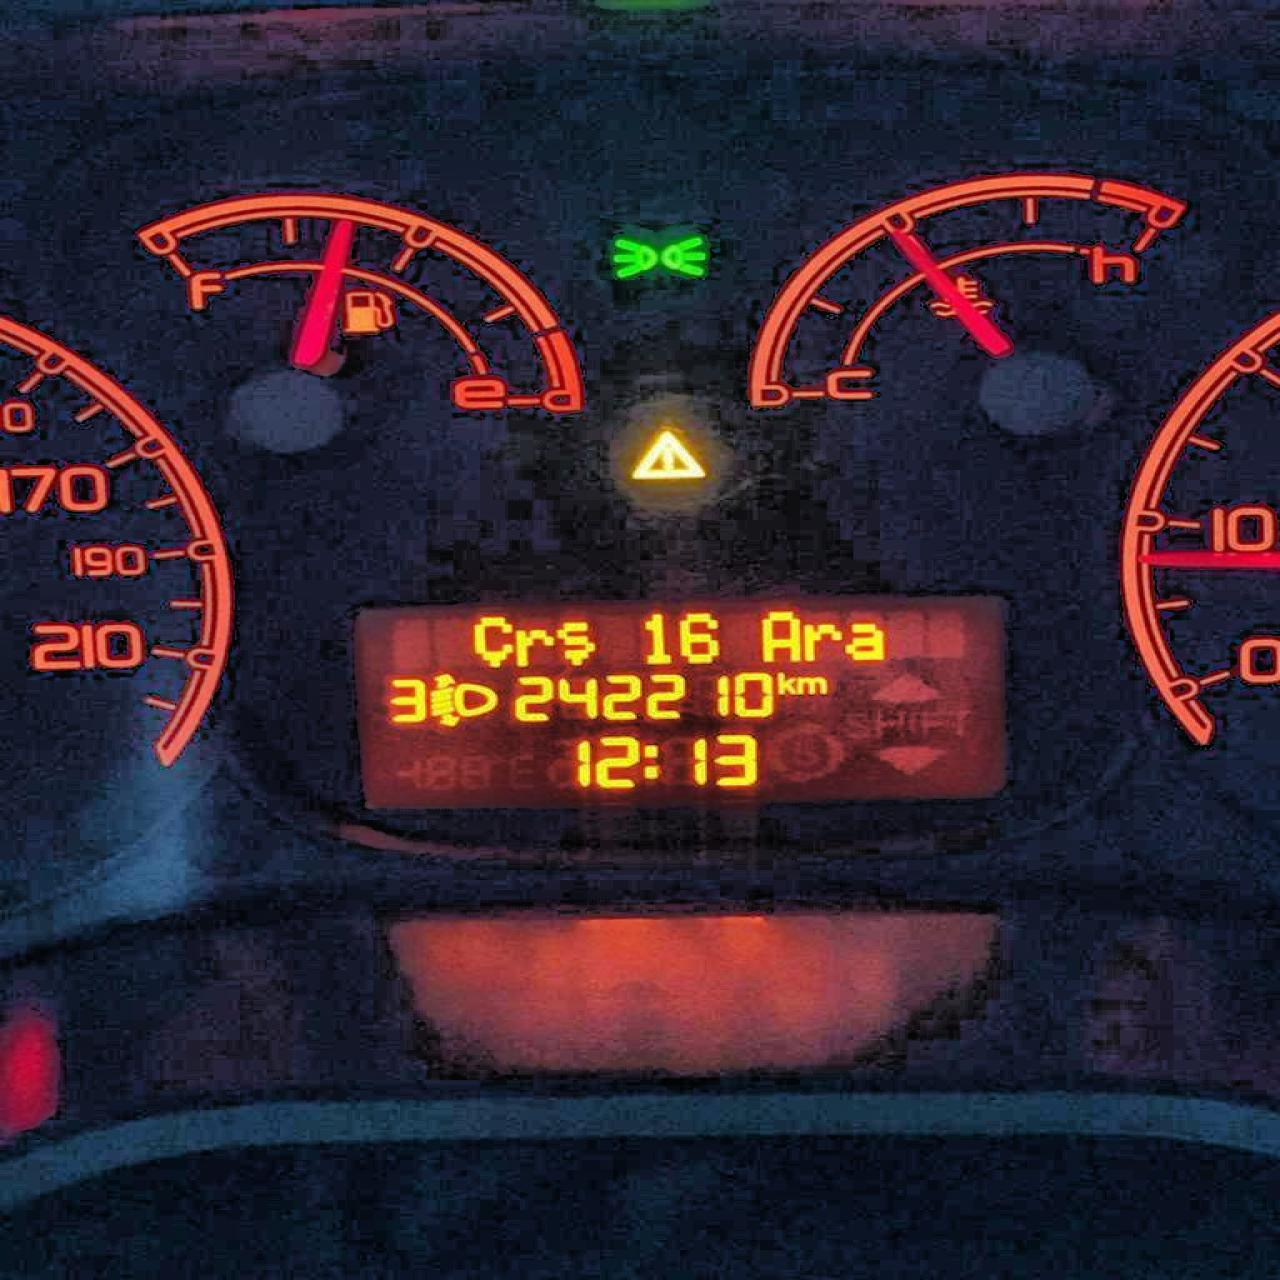0: (731, 670, 771, 717)
1: (641, 611, 672, 668), (572, 736, 592, 790), (689, 731, 708, 788), (713, 670, 730, 720)
2: (593, 734, 639, 790), (512, 673, 553, 722), (600, 670, 641, 720), (644, 672, 685, 719)
3: (712, 730, 761, 787), (388, 675, 427, 723)
4: (556, 674, 597, 719)
6: (676, 610, 719, 665)
X: (470, 614, 513, 670), (760, 608, 799, 666), (554, 617, 600, 665), (842, 619, 886, 661), (801, 621, 842, 661), (513, 625, 552, 667), (640, 740, 662, 781), (795, 673, 829, 696), (777, 669, 795, 695)
odometer: (342, 597, 1013, 804)
